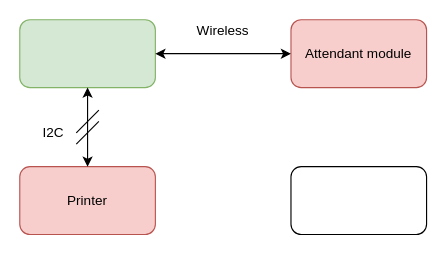
This 446x254 diagram has some shape labels left out. The shapes that lost their labels are listed below. From the top down, each one's centre as x and y in pixels, then its label:
At (x=87, y=53): "User module".
At (x=358, y=200): "Panel".
